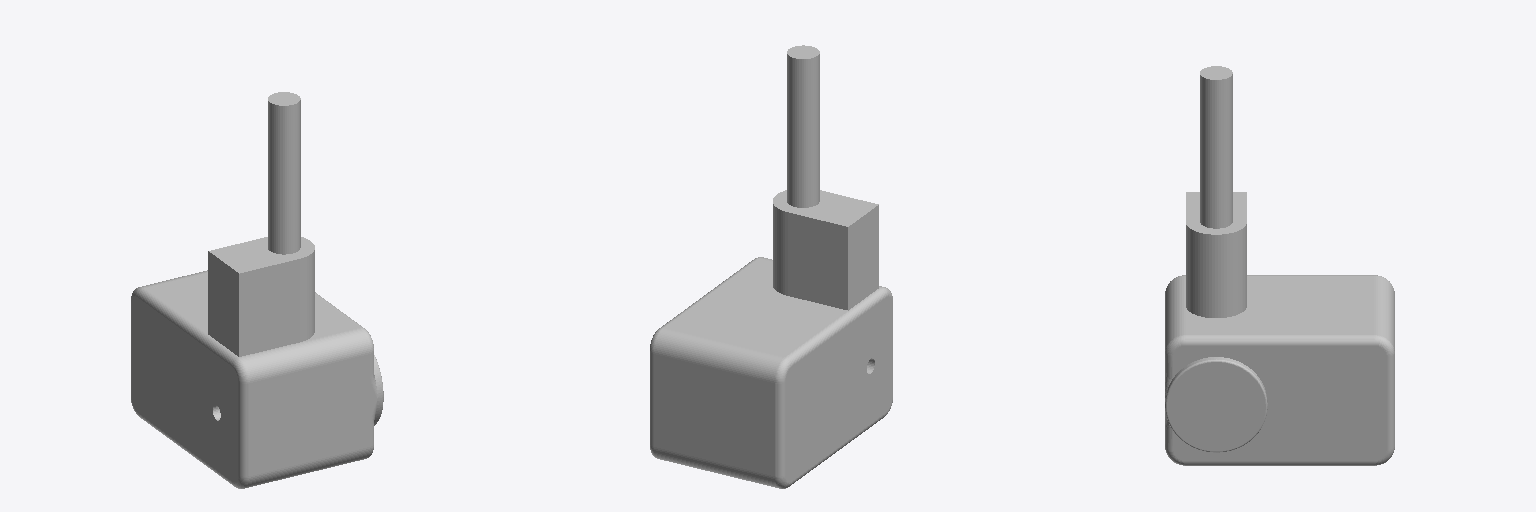
The model's file is ShoulderRollStructureRight.obj.
3 renders of one model, left to right at view 1: azimuth 30°, elevation 25°; view 2: azimuth 150°, elevation 25°; view 3: azimuth 270°, elevation 25°, orthographic.
Parts seen in each view (by area): view 1: ShoulderRollStructureRight; view 2: ShoulderRollStructureRight; view 3: ShoulderRollStructureRight.
Boxes of the visible parts, <box> form: ShoulderRollStructureRight: <box>131,92,383,488</box>; ShoulderRollStructureRight: <box>650,45,892,488</box>; ShoulderRollStructureRight: <box>1165,66,1394,465</box>.
Size of the model in its own units: 0.04 by 0.0975 by 0.056.